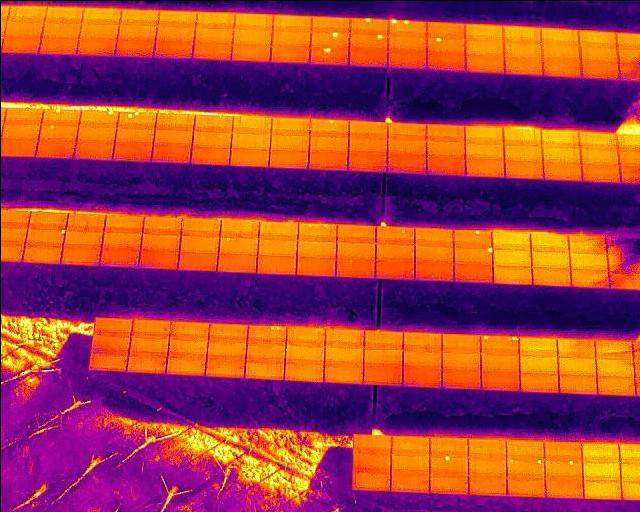Cell: (428, 455, 467, 476), (542, 458, 582, 477), (308, 45, 348, 63), (219, 235, 258, 253), (452, 245, 493, 262), (24, 228, 65, 245), (309, 119, 348, 136), (453, 229, 491, 246), (38, 125, 77, 141), (427, 36, 465, 52), (349, 33, 387, 49), (80, 111, 117, 127), (310, 31, 349, 46), (375, 227, 414, 242), (41, 110, 80, 124), (349, 18, 387, 32)
Cell-Multi: (505, 457, 544, 476), (297, 222, 336, 239), (387, 19, 425, 35), (480, 334, 518, 350), (117, 112, 157, 127), (247, 325, 286, 337)
No-Anomaly: (518, 347, 558, 372), (295, 254, 336, 276), (361, 360, 400, 382), (138, 247, 177, 269), (440, 365, 480, 386), (556, 352, 596, 373), (452, 262, 494, 282), (100, 245, 138, 267), (205, 337, 246, 357), (581, 479, 622, 499), (481, 368, 520, 389), (505, 476, 544, 497), (324, 341, 364, 361), (530, 266, 570, 286), (374, 259, 414, 279), (334, 258, 374, 278), (176, 250, 216, 270), (466, 437, 506, 457), (544, 477, 582, 498), (401, 363, 440, 383), (285, 359, 324, 379), (127, 351, 166, 371), (479, 349, 518, 369), (167, 335, 206, 355), (217, 252, 256, 272), (467, 475, 506, 495), (593, 356, 634, 375), (439, 346, 480, 365), (491, 264, 532, 283), (255, 254, 296, 273), (21, 244, 62, 263), (230, 42, 270, 61), (245, 358, 285, 377), (205, 357, 245, 376), (364, 342, 402, 362), (285, 340, 323, 360), (245, 338, 285, 357), (257, 236, 297, 255), (529, 232, 569, 251), (579, 440, 619, 459), (389, 435, 429, 454), (334, 240, 376, 258), (581, 460, 620, 479), (467, 457, 506, 476), (596, 375, 635, 394), (557, 373, 596, 392), (324, 360, 363, 379), (414, 261, 453, 280), (61, 245, 100, 264), (426, 157, 465, 176), (542, 439, 581, 458), (353, 434, 390, 454), (389, 455, 430, 473), (177, 233, 218, 251), (193, 41, 231, 60), (520, 370, 558, 389), (166, 353, 204, 372), (505, 438, 543, 457), (464, 24, 504, 42), (271, 13, 311, 31), (491, 247, 531, 265), (295, 238, 335, 256), (347, 154, 387, 172), (150, 146, 190, 164), (191, 130, 231, 148), (566, 251, 608, 268), (402, 344, 439, 363), (93, 316, 130, 335), (153, 39, 192, 57), (76, 37, 115, 55), (502, 26, 541, 44), (567, 234, 606, 252), (336, 223, 375, 241), (389, 473, 428, 491), (308, 152, 347, 170), (230, 149, 269, 167), (427, 437, 466, 455), (579, 61, 620, 78), (386, 50, 427, 67), (269, 45, 310, 62), (139, 232, 180, 249), (217, 219, 258, 236), (424, 141, 465, 158), (349, 48, 387, 66), (1, 35, 39, 53), (67, 211, 105, 229), (269, 151, 307, 169), (36, 140, 74, 158), (540, 59, 580, 76), (502, 42, 542, 59), (115, 22, 155, 39), (129, 334, 169, 351), (129, 318, 169, 335), (64, 228, 104, 245), (307, 136, 347, 153), (230, 133, 270, 150), (1, 108, 43, 124), (39, 36, 76, 54), (353, 454, 390, 472), (89, 351, 126, 369), (143, 215, 180, 233), (504, 160, 541, 178), (310, 15, 349, 32), (414, 244, 453, 261), (428, 477, 467, 494), (104, 213, 143, 230), (465, 160, 504, 177), (540, 146, 579, 163), (347, 137, 386, 154), (269, 134, 308, 151), (75, 126, 114, 143), (464, 126, 503, 143), (529, 250, 570, 266), (373, 242, 414, 258), (0, 125, 38, 142), (426, 52, 464, 69), (116, 38, 154, 55), (101, 231, 139, 248), (28, 211, 66, 228), (542, 162, 580, 179), (387, 155, 425, 172), (74, 143, 112, 160), (192, 116, 232, 132), (413, 227, 453, 243), (189, 148, 229, 164), (111, 144, 151, 160), (152, 130, 192, 146), (114, 128, 154, 144), (492, 231, 529, 248), (353, 472, 390, 489), (581, 163, 618, 180), (540, 131, 577, 148), (425, 125, 464, 141), (387, 123, 426, 139), (270, 118, 309, 134), (464, 40, 503, 56), (540, 28, 579, 44), (233, 13, 272, 29), (556, 336, 595, 352), (170, 319, 209, 335), (180, 218, 219, 234), (502, 129, 541, 145), (579, 46, 620, 61), (92, 334, 128, 351), (232, 117, 270, 133), (579, 30, 617, 46), (79, 21, 117, 37), (195, 13, 233, 29), (157, 11, 195, 27), (464, 143, 502, 159), (387, 139, 425, 155), (120, 9, 158, 25), (347, 123, 387, 138), (503, 59, 542, 74), (464, 57, 503, 72), (388, 34, 427, 49), (156, 27, 195, 42), (441, 333, 480, 348), (208, 322, 247, 337), (543, 45, 579, 61), (0, 141, 36, 157), (155, 114, 193, 129), (5, 21, 43, 36), (580, 148, 618, 163), (503, 146, 541, 161), (193, 27, 233, 41), (257, 222, 297, 236), (41, 7, 81, 21), (272, 31, 311, 45), (40, 22, 79, 36), (81, 8, 120, 22), (232, 30, 270, 44), (325, 328, 363, 342), (363, 328, 401, 342), (426, 22, 463, 36), (288, 326, 325, 340), (579, 133, 616, 147), (518, 335, 557, 348), (402, 330, 439, 343), (8, 7, 45, 20)
Shadowing: (594, 339, 633, 359), (570, 268, 609, 287)
